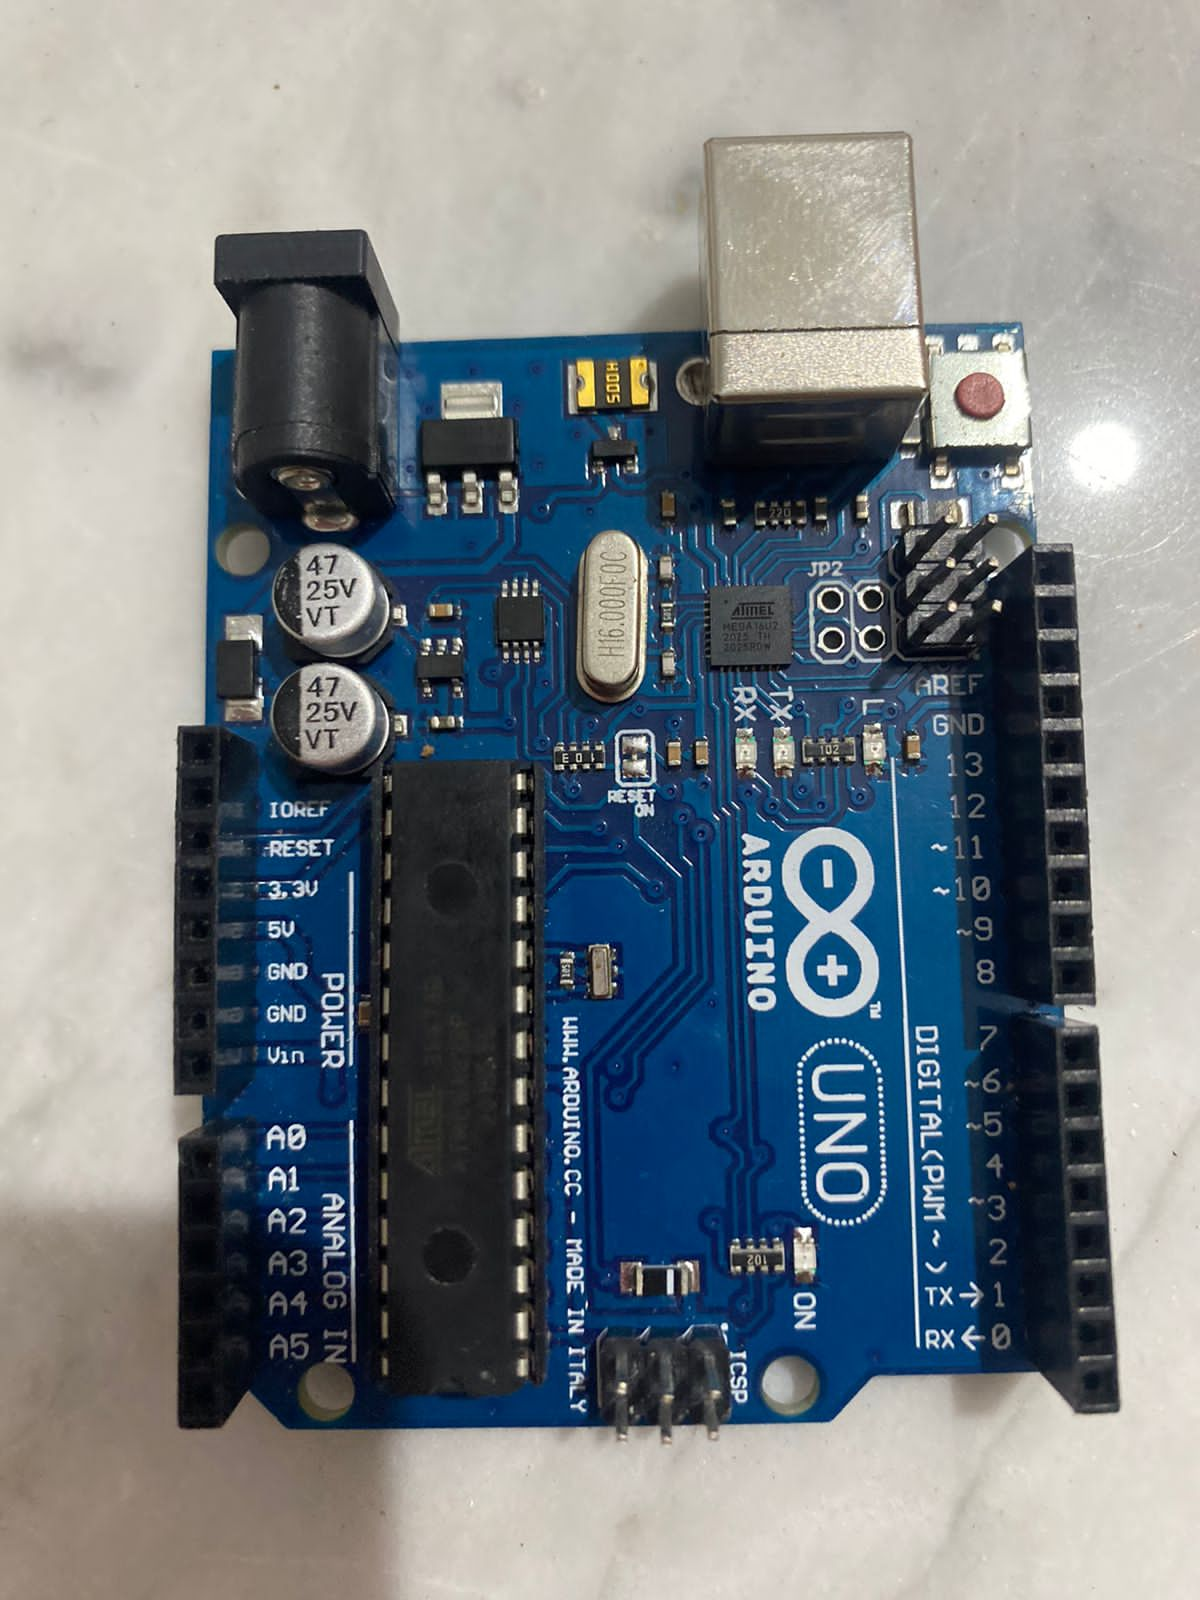arduino-uno: (176, 118, 1123, 1437)
